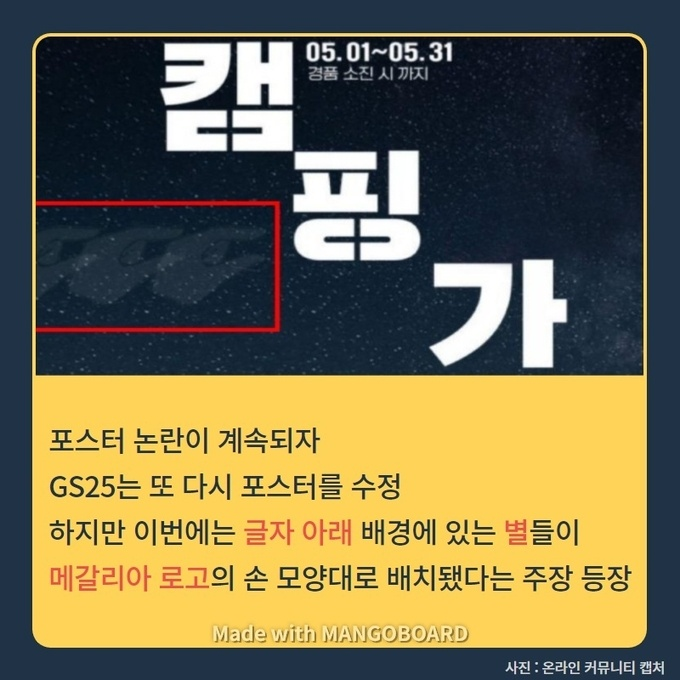megal: (74, 218, 185, 327), (153, 228, 268, 317), (35, 210, 98, 315)
